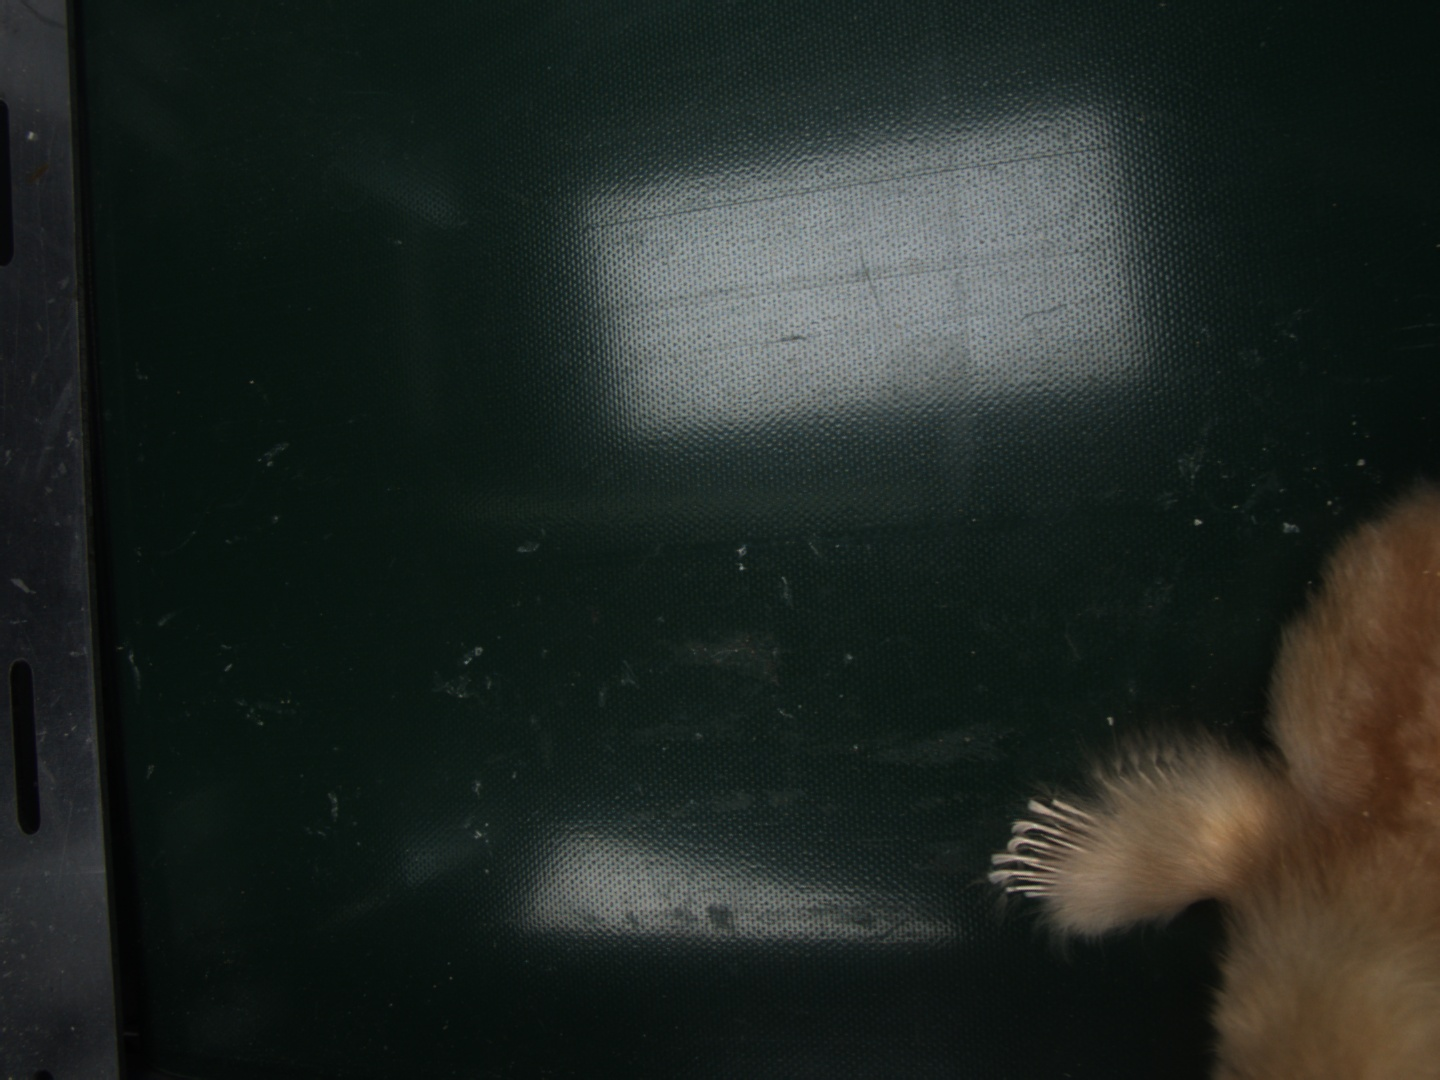female: (990, 798, 1106, 901)
